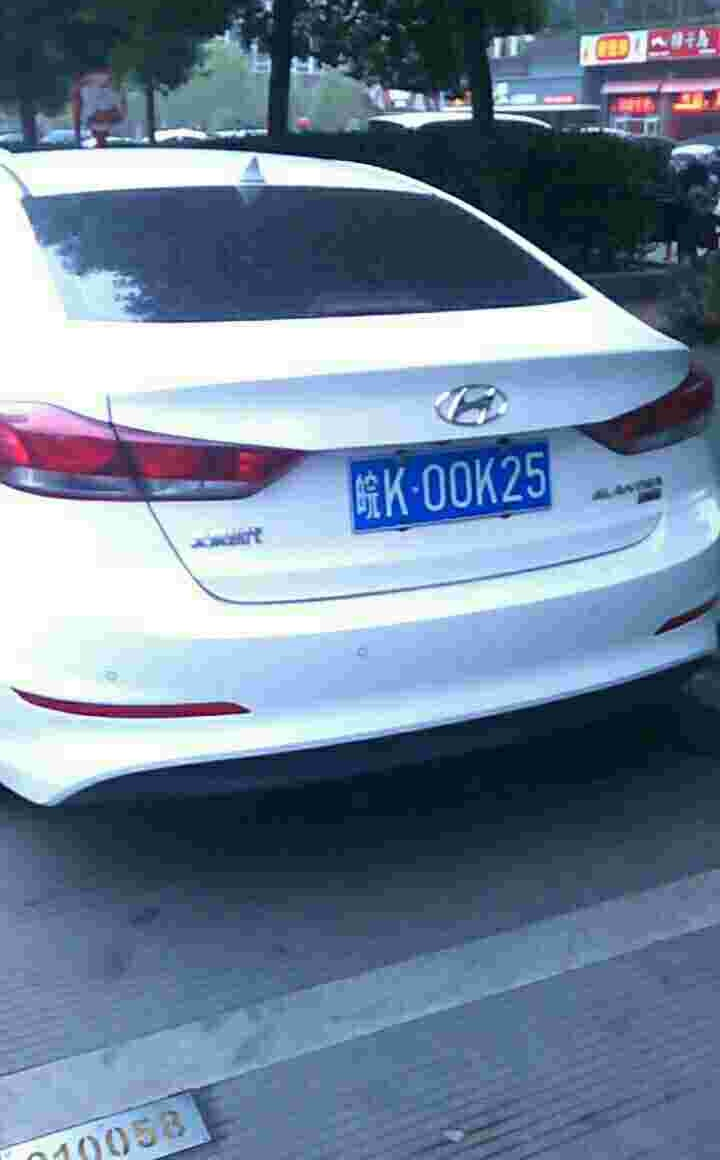plate: (354, 435, 560, 535)
